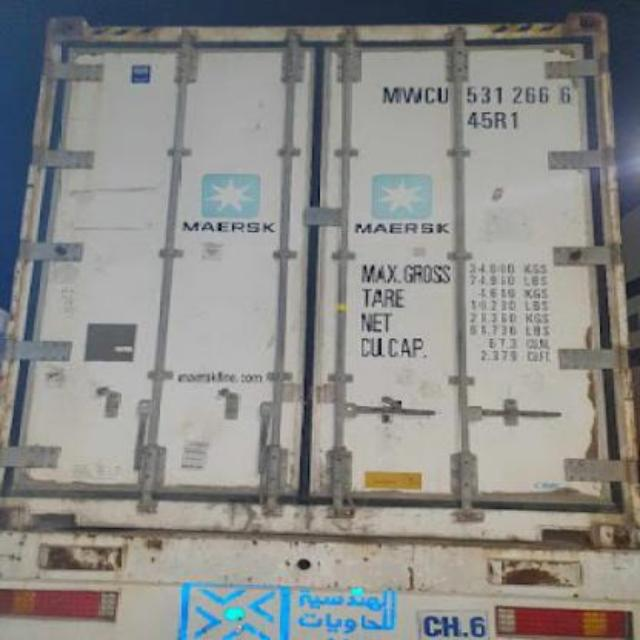1: (494, 83, 506, 107)
2: (511, 80, 524, 106)
3: (476, 82, 492, 108)
5: (462, 82, 478, 108)
6: (556, 80, 574, 106), (538, 77, 550, 109), (526, 80, 536, 108)
C: (422, 81, 436, 111)
M: (382, 82, 400, 108)
U: (434, 81, 454, 111)
W: (402, 84, 422, 112)
